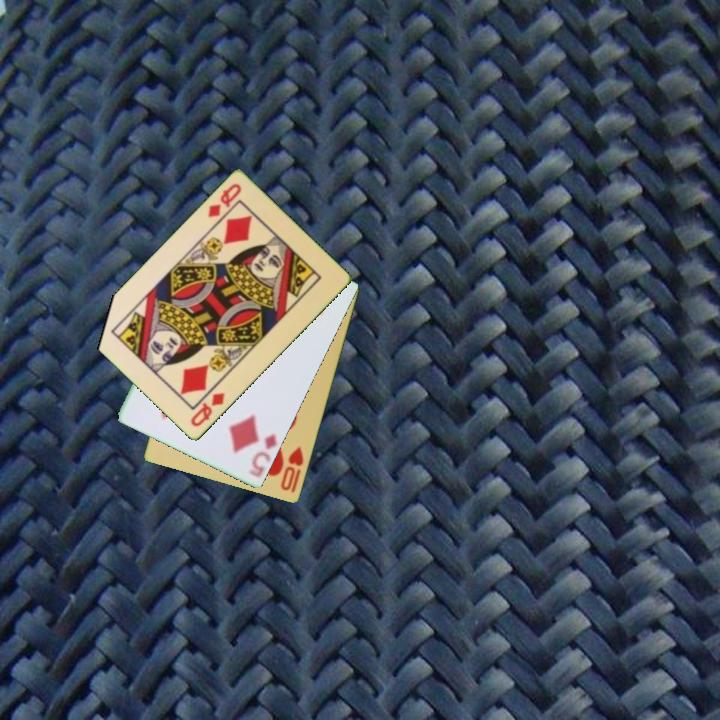10h: (277, 443, 307, 496)
5d: (248, 429, 281, 481)
Qd: (187, 389, 228, 430), (204, 180, 245, 221)
